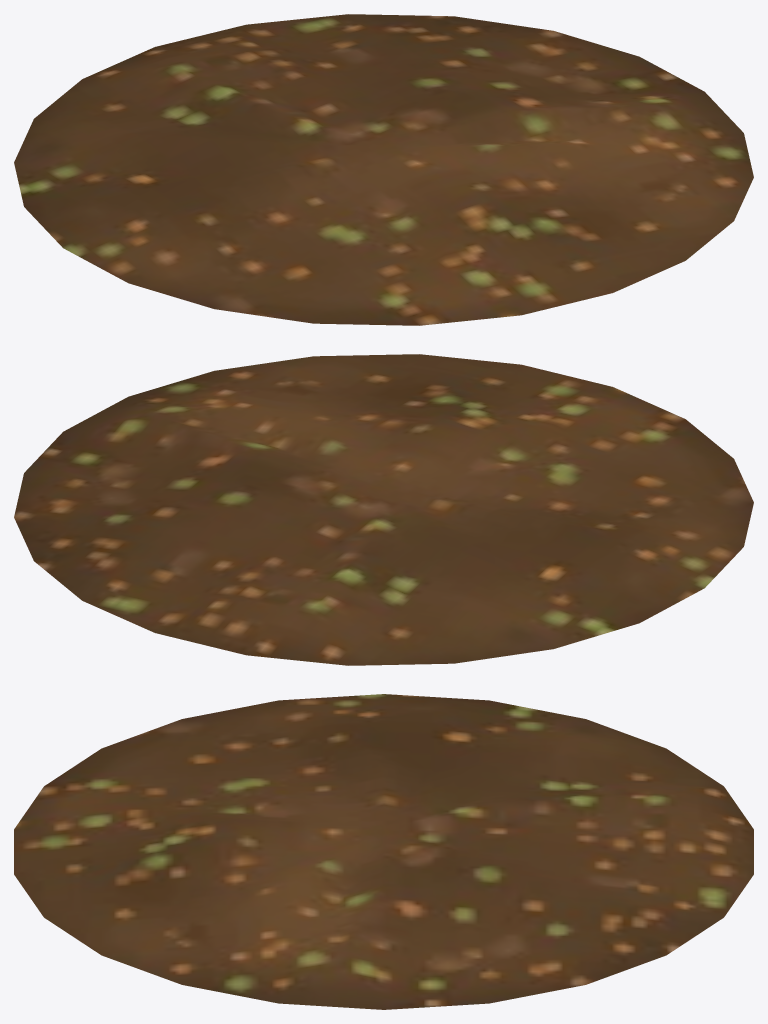
Rendered from pot_fill_pulse_stew.glb.
The picture shows the model from 3 angles, top to bottom: view 1: azimuth 30°, elevation 25°; view 2: azimuth 150°, elevation 25°; view 3: azimuth 270°, elevation 25°; orthographic projection.
Parts seen in each view (by area): view 1: POT_FILL_PULSE_STEW; view 2: POT_FILL_PULSE_STEW; view 3: POT_FILL_PULSE_STEW.
Part boxes in pixels (x1=…): POT_FILL_PULSE_STEW: x1=14, y1=14, x2=753, y2=325; POT_FILL_PULSE_STEW: x1=14, y1=354, x2=753, y2=665; POT_FILL_PULSE_STEW: x1=14, y1=694, x2=753, y2=1009.
Size of the model in its own units: 0.277 by 0.0294 by 0.2742.
Materials: 1 (1 with a texture image).
